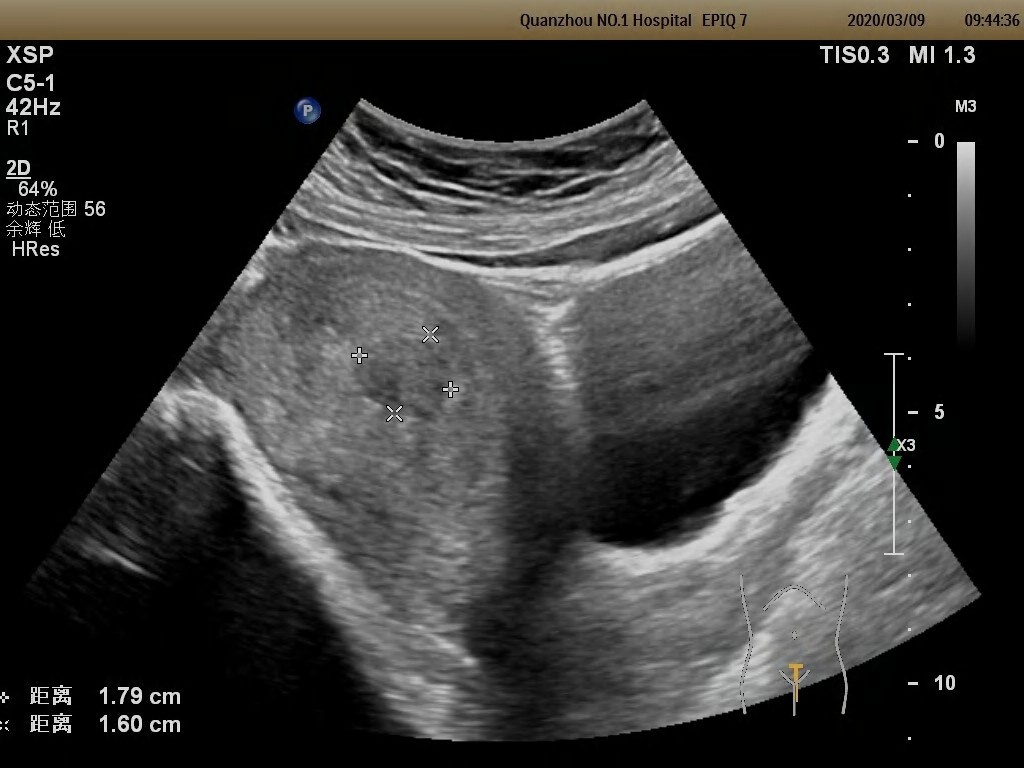肌瘤: (363, 338, 447, 409)
